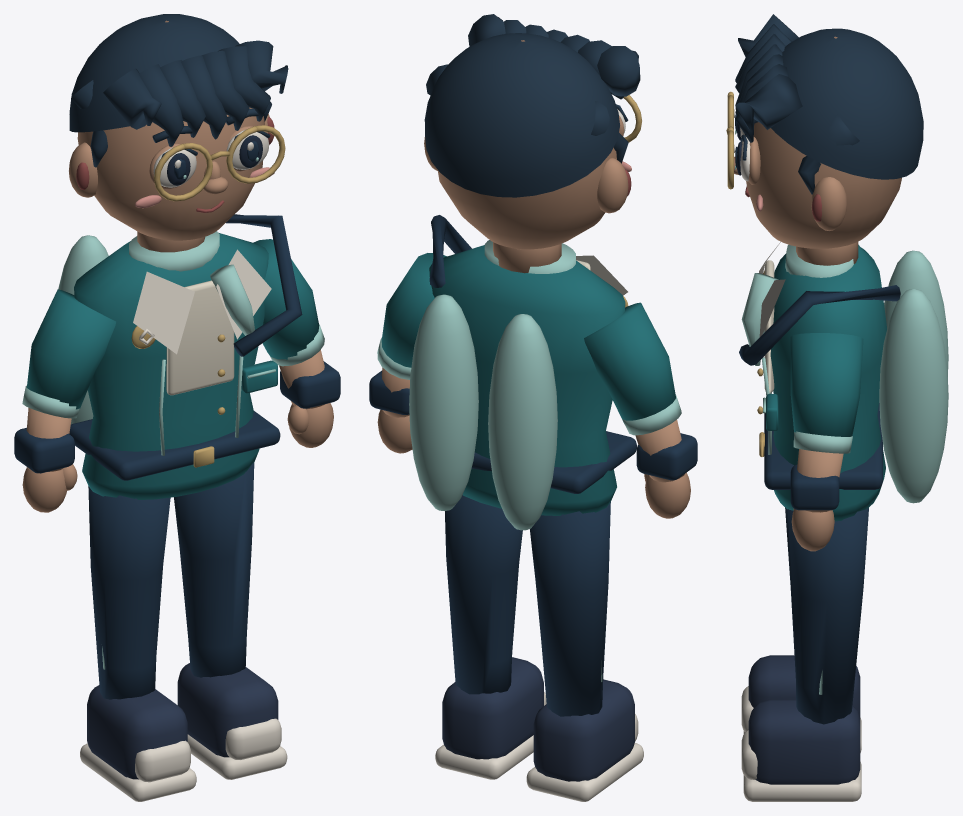
The model's file is xingyin-characters-v1__elite_tide_diver.glb.
3 views of the same model, side by side, from view 1: azimuth 30°, elevation 25°; view 2: azimuth 150°, elevation 25°; view 3: azimuth 270°, elevation 25° (orthographic).
Parts seen in each view (by area): view 1: figure.017; view 2: figure.017; view 3: figure.017.
Boxes of the visible parts, x1,y1,x2,y2 form: figure.017: [14, 14, 340, 801]; figure.017: [369, 14, 697, 801]; figure.017: [726, 14, 948, 801].
Size of the model in its own units: 1.16 by 2.63 by 0.7261.
